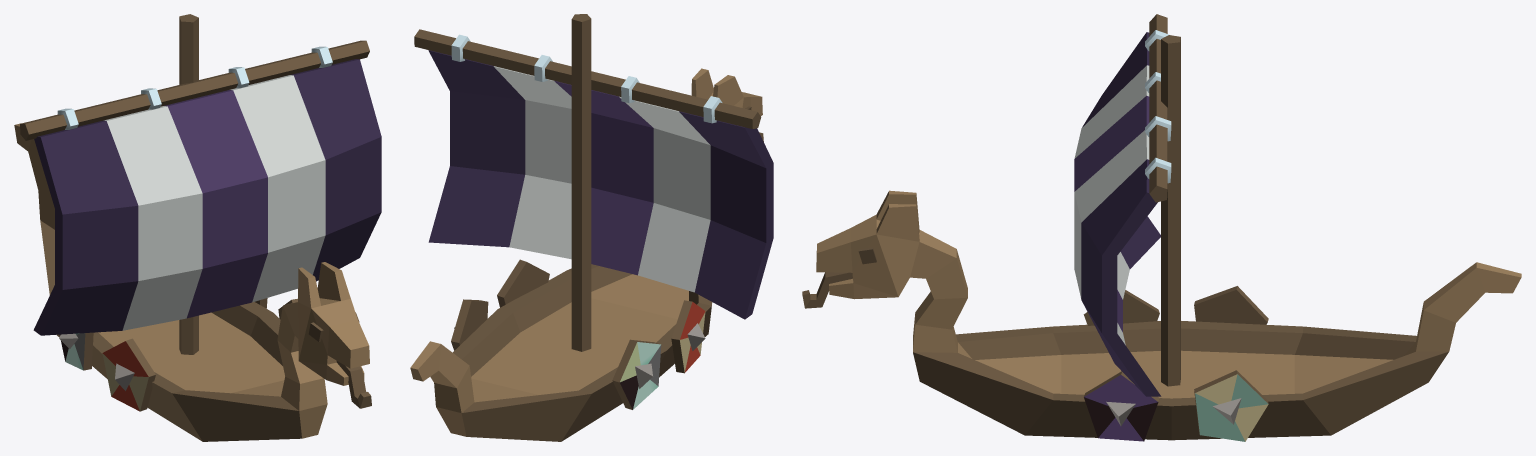
Rendered from Ship_Tiny.fbx.
3 views of the same model, side by side, from view 1: azimuth 30°, elevation 25°; view 2: azimuth 150°, elevation 25°; view 3: azimuth 270°, elevation 25° (orthographic). The views are drawn at different scales.
Visible parts, largest first — view 1: SM_Prop_Viking_Boat_01; view 2: SM_Prop_Viking_Boat_01; view 3: SM_Prop_Viking_Boat_01.
Boxes of the visible parts, x1=… form: SM_Prop_Viking_Boat_01: x1=14, y1=14, x2=381, y2=441; SM_Prop_Viking_Boat_01: x1=410, y1=14, x2=773, y2=441; SM_Prop_Viking_Boat_01: x1=802, y1=14, x2=1521, y2=441.
Size of the model in its own units: 108 by 108 by 191.
